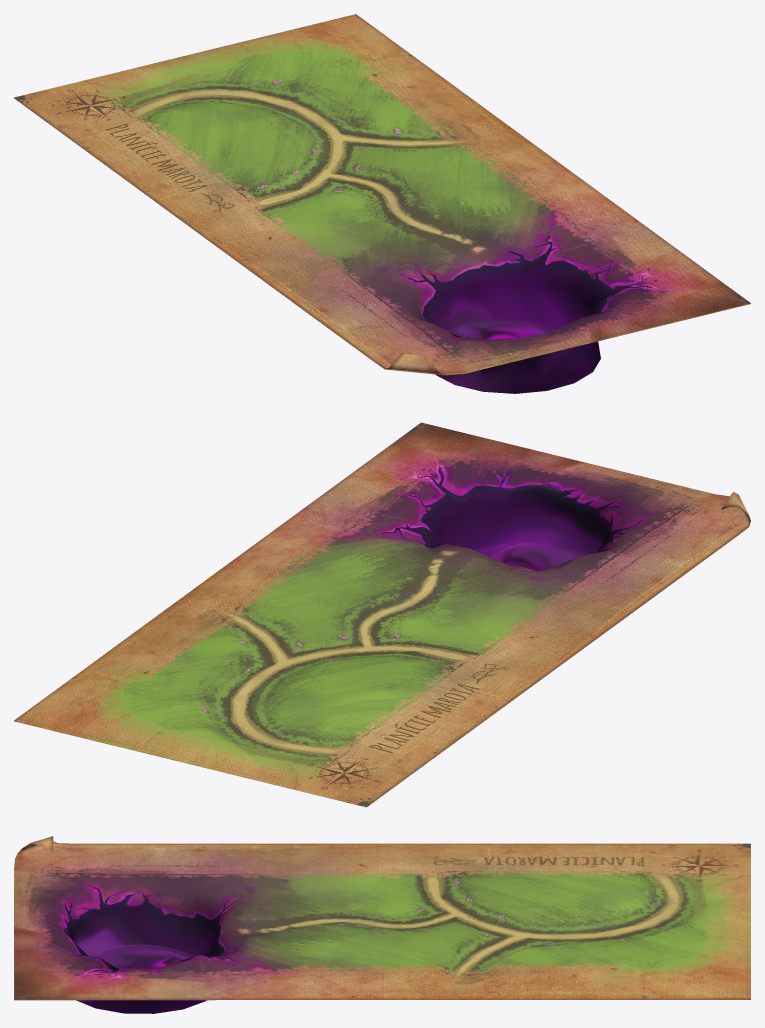
File: SM_Fase_A.fbx
The picture shows the model from 3 angles, top to bottom: view 1: azimuth 30°, elevation 25°; view 2: azimuth 150°, elevation 25°; view 3: azimuth 270°, elevation 25°; orthographic projection. The views are drawn at different scales.
Visible parts, largest first — view 1: SM_Fase_A; view 2: SM_Fase_A; view 3: SM_Fase_A.
Boxes of the visible parts, x1,y1,x2,y2 form: SM_Fase_A: (14, 14, 750, 393); SM_Fase_A: (14, 422, 750, 807); SM_Fase_A: (14, 836, 750, 1013).
Bounding box in the file's own units: 26130 × 6033 × 52260.
